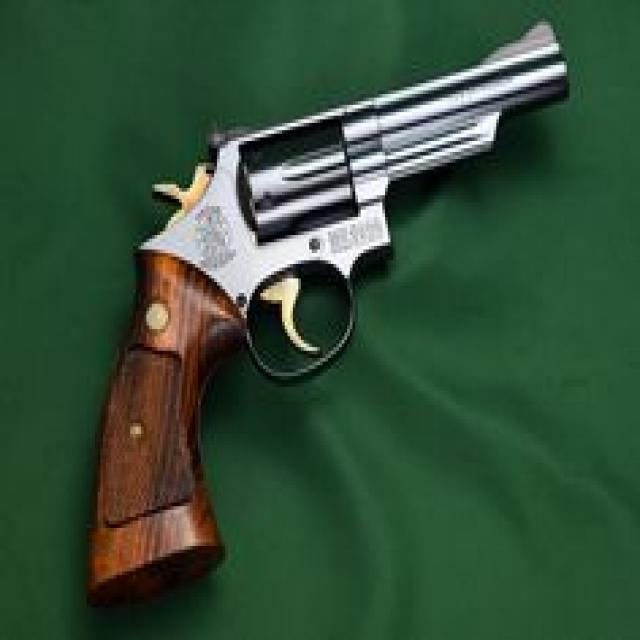revolver: (33, 5, 600, 622)
